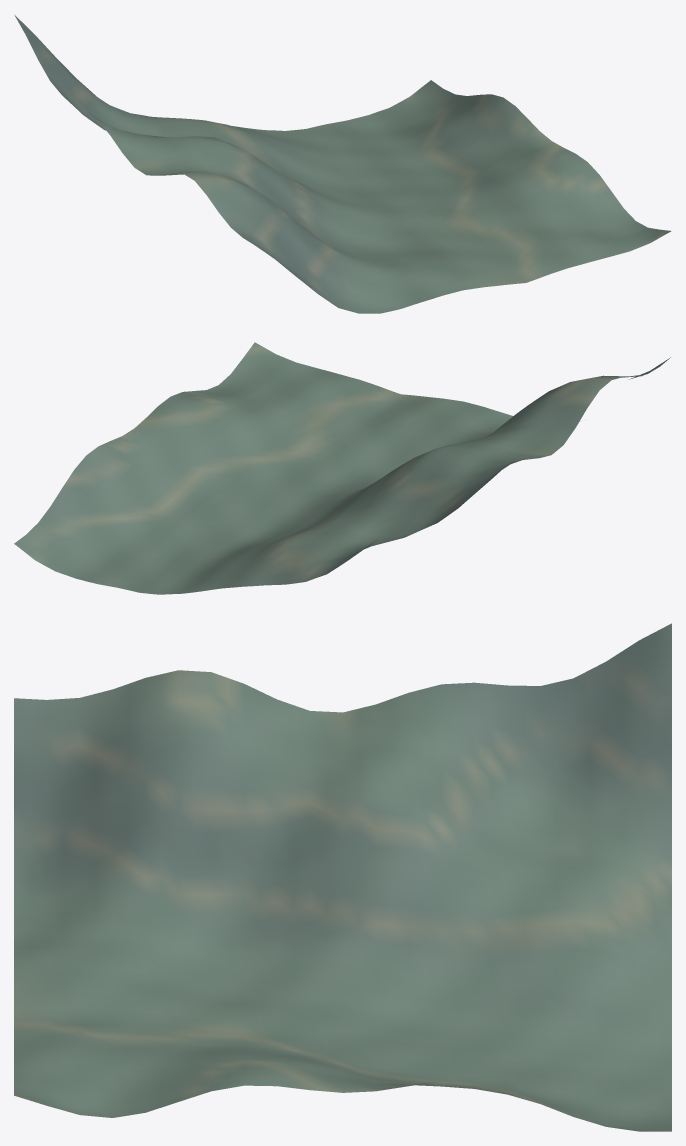
Rendered from ridge_-1_-17.glb.
3 views of the same model, one above another, from view 1: azimuth 30°, elevation 25°; view 2: azimuth 150°, elevation 25°; view 3: azimuth 270°, elevation 25° (orthographic). The views are drawn at different scales.
Size of the model in its own units: 220 by 94.49 by 220.
